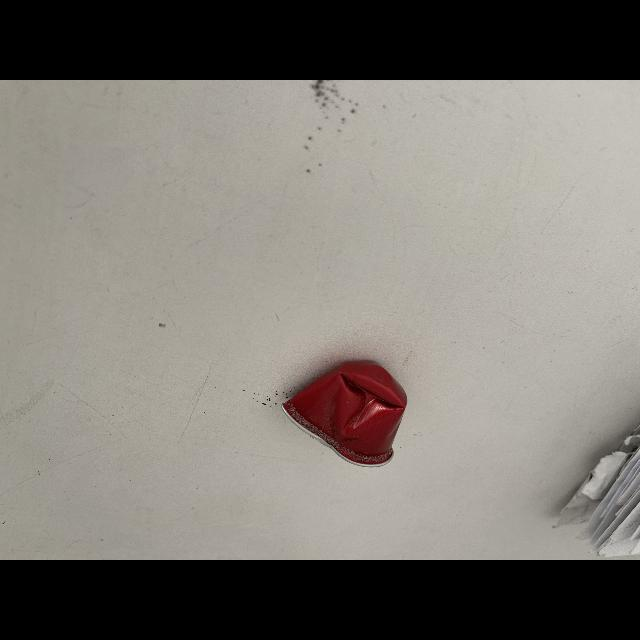damaged_capsule: (278, 353, 409, 471)
